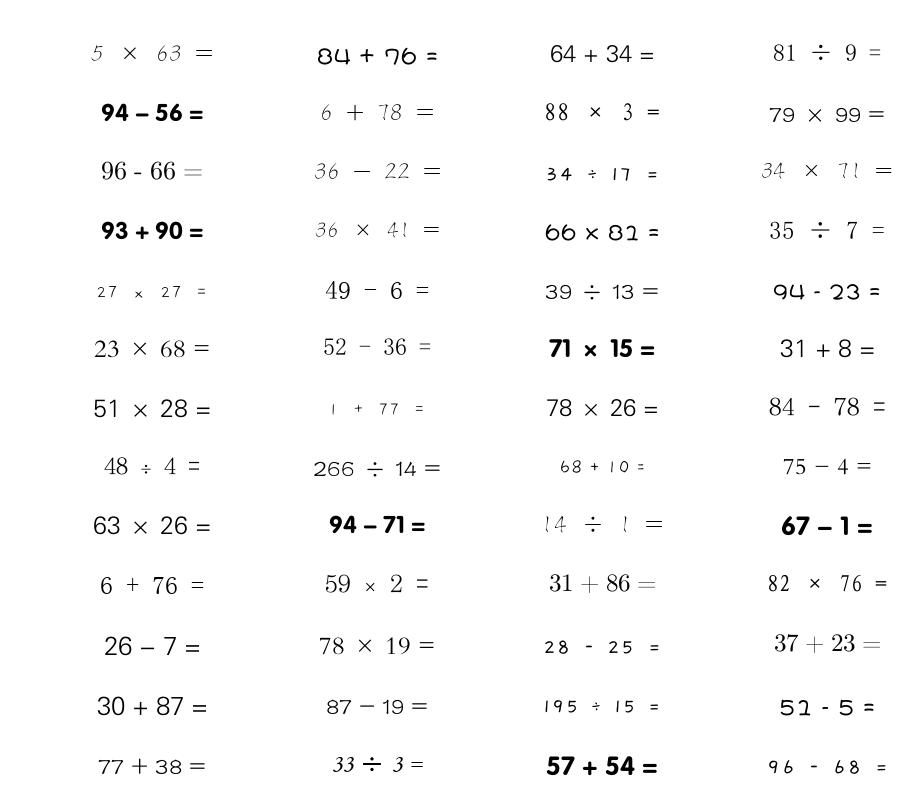MQ: (761, 162, 893, 179), (93, 399, 211, 418), (93, 516, 211, 535), (546, 756, 658, 776), (769, 397, 886, 416), (97, 696, 208, 716), (541, 515, 663, 533), (317, 47, 438, 65), (767, 574, 887, 592), (546, 398, 659, 417), (549, 574, 656, 594), (774, 634, 881, 654), (549, 338, 655, 358), (544, 103, 660, 121), (769, 221, 885, 239), (94, 340, 210, 358), (319, 637, 435, 655), (313, 461, 441, 477), (314, 163, 441, 179), (315, 222, 440, 238), (550, 44, 655, 63), (325, 574, 429, 593), (545, 224, 660, 241), (91, 45, 213, 61), (104, 636, 201, 656), (101, 103, 203, 122), (320, 104, 434, 121), (101, 161, 203, 180), (101, 221, 203, 240), (325, 281, 429, 299), (781, 516, 873, 536), (773, 44, 881, 61), (323, 338, 431, 355), (98, 758, 206, 775), (545, 284, 659, 300), (329, 515, 425, 534), (780, 339, 875, 358), (100, 577, 204, 594), (769, 107, 885, 122), (773, 284, 881, 300), (104, 457, 200, 475), (766, 760, 888, 774), (543, 640, 661, 654), (779, 699, 875, 716), (545, 167, 659, 181), (543, 700, 661, 713), (326, 699, 428, 714), (783, 458, 872, 475), (96, 286, 208, 299), (331, 757, 423, 772), (328, 403, 426, 416), (559, 460, 646, 474)
